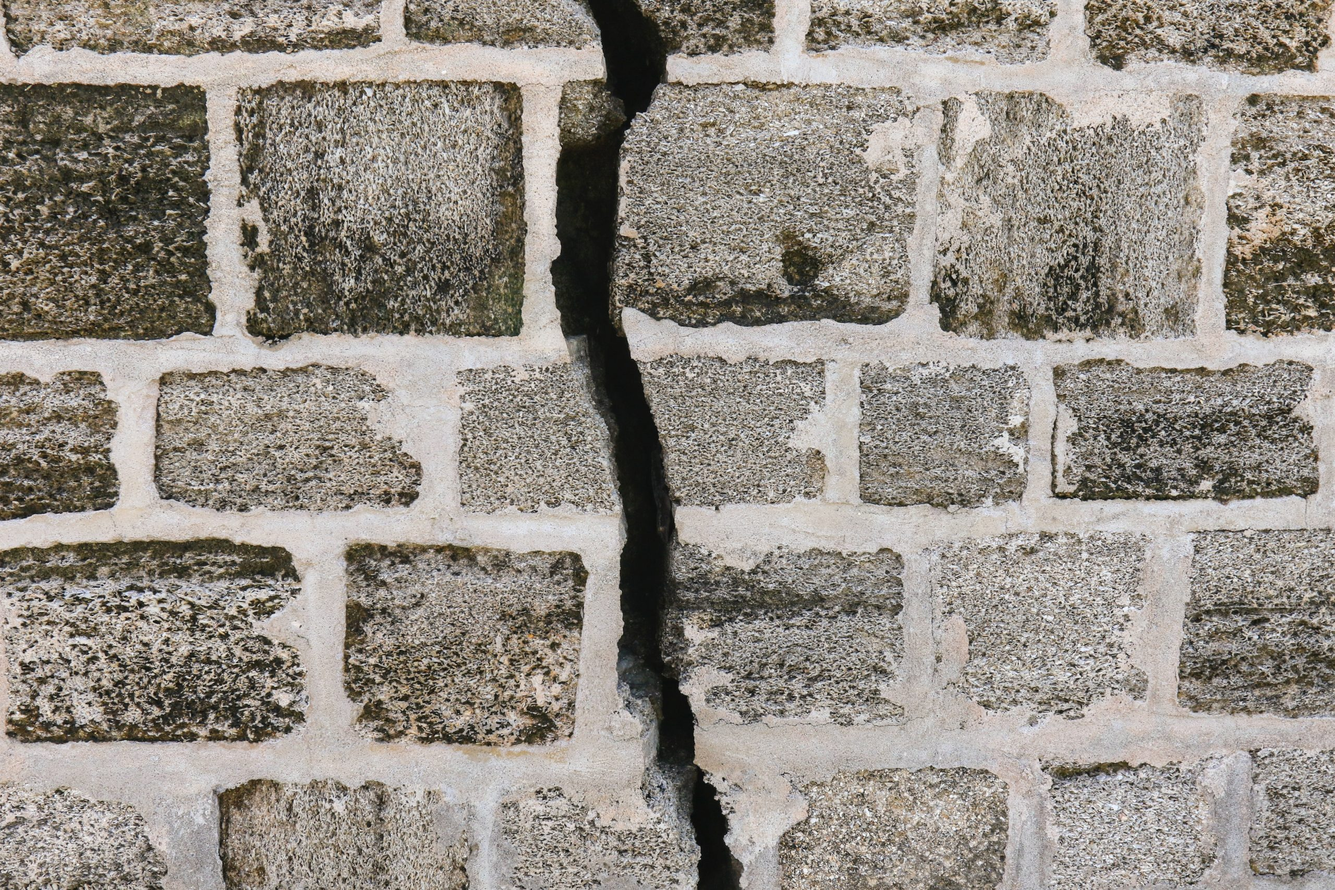crack: (542, 1, 744, 889)
